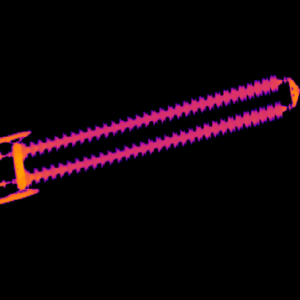insulator: (17, 76, 300, 188)
